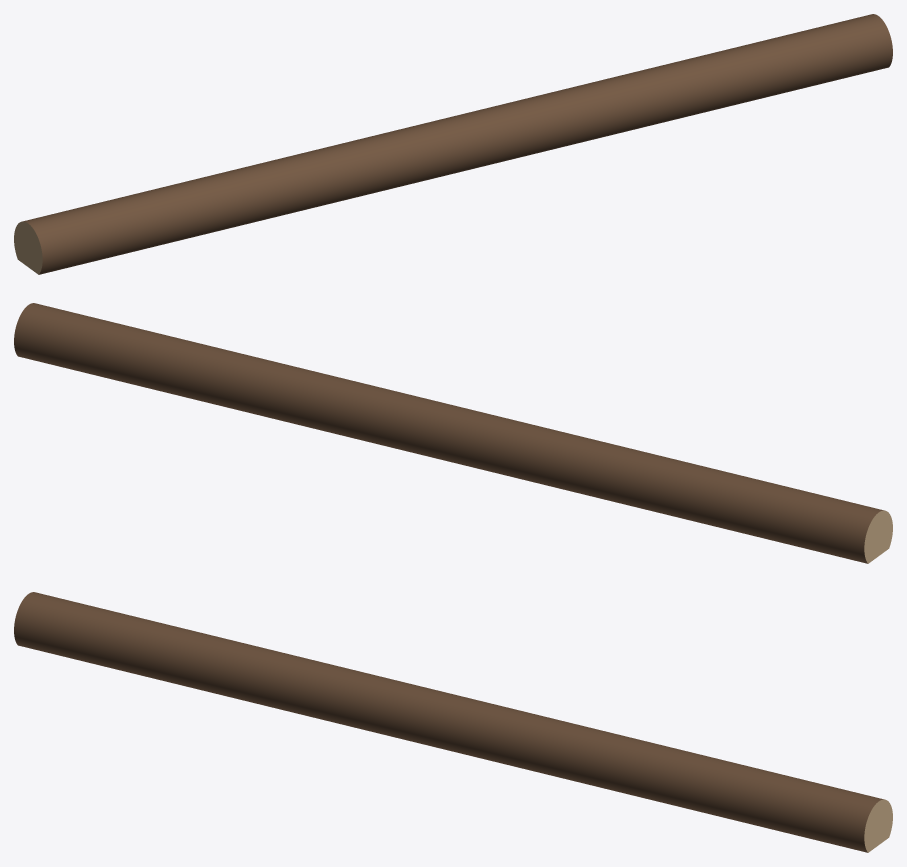
File: SM_RawLog_600_Hewn1.fbx
3 views of the same model, one above another, from view 1: azimuth 30°, elevation 25°; view 2: azimuth 150°, elevation 25°; view 3: azimuth 330°, elevation 25° (orthographic).
Visible parts, largest first — view 1: RawLog_600_Hewn1; view 2: RawLog_600_Hewn1; view 3: RawLog_600_Hewn1.
Boxes of the visible parts, left/top/right/bottom form: RawLog_600_Hewn1: left=14, top=14, right=892, bottom=274; RawLog_600_Hewn1: left=14, top=303, right=892, bottom=563; RawLog_600_Hewn1: left=14, top=592, right=892, bottom=852.
Size of what is drawn, in the model's own units: 6 by 0.295 by 0.35.
